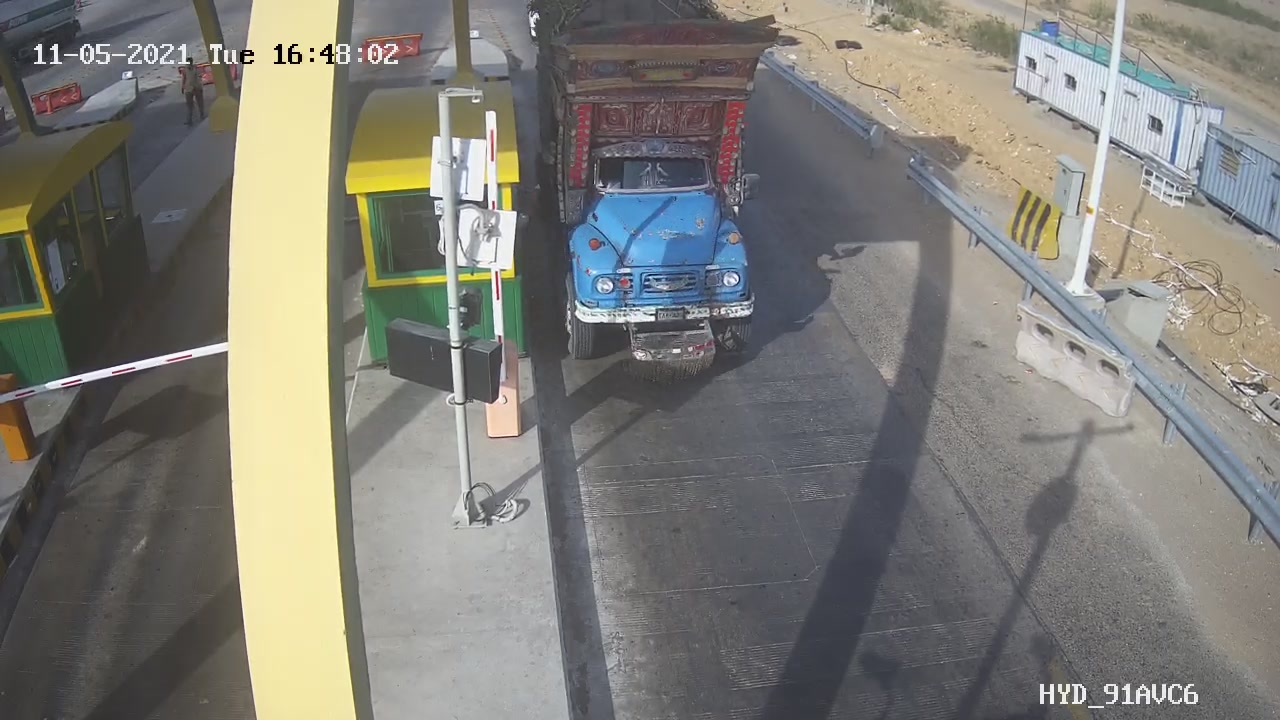F5: (518, 3, 812, 392)
